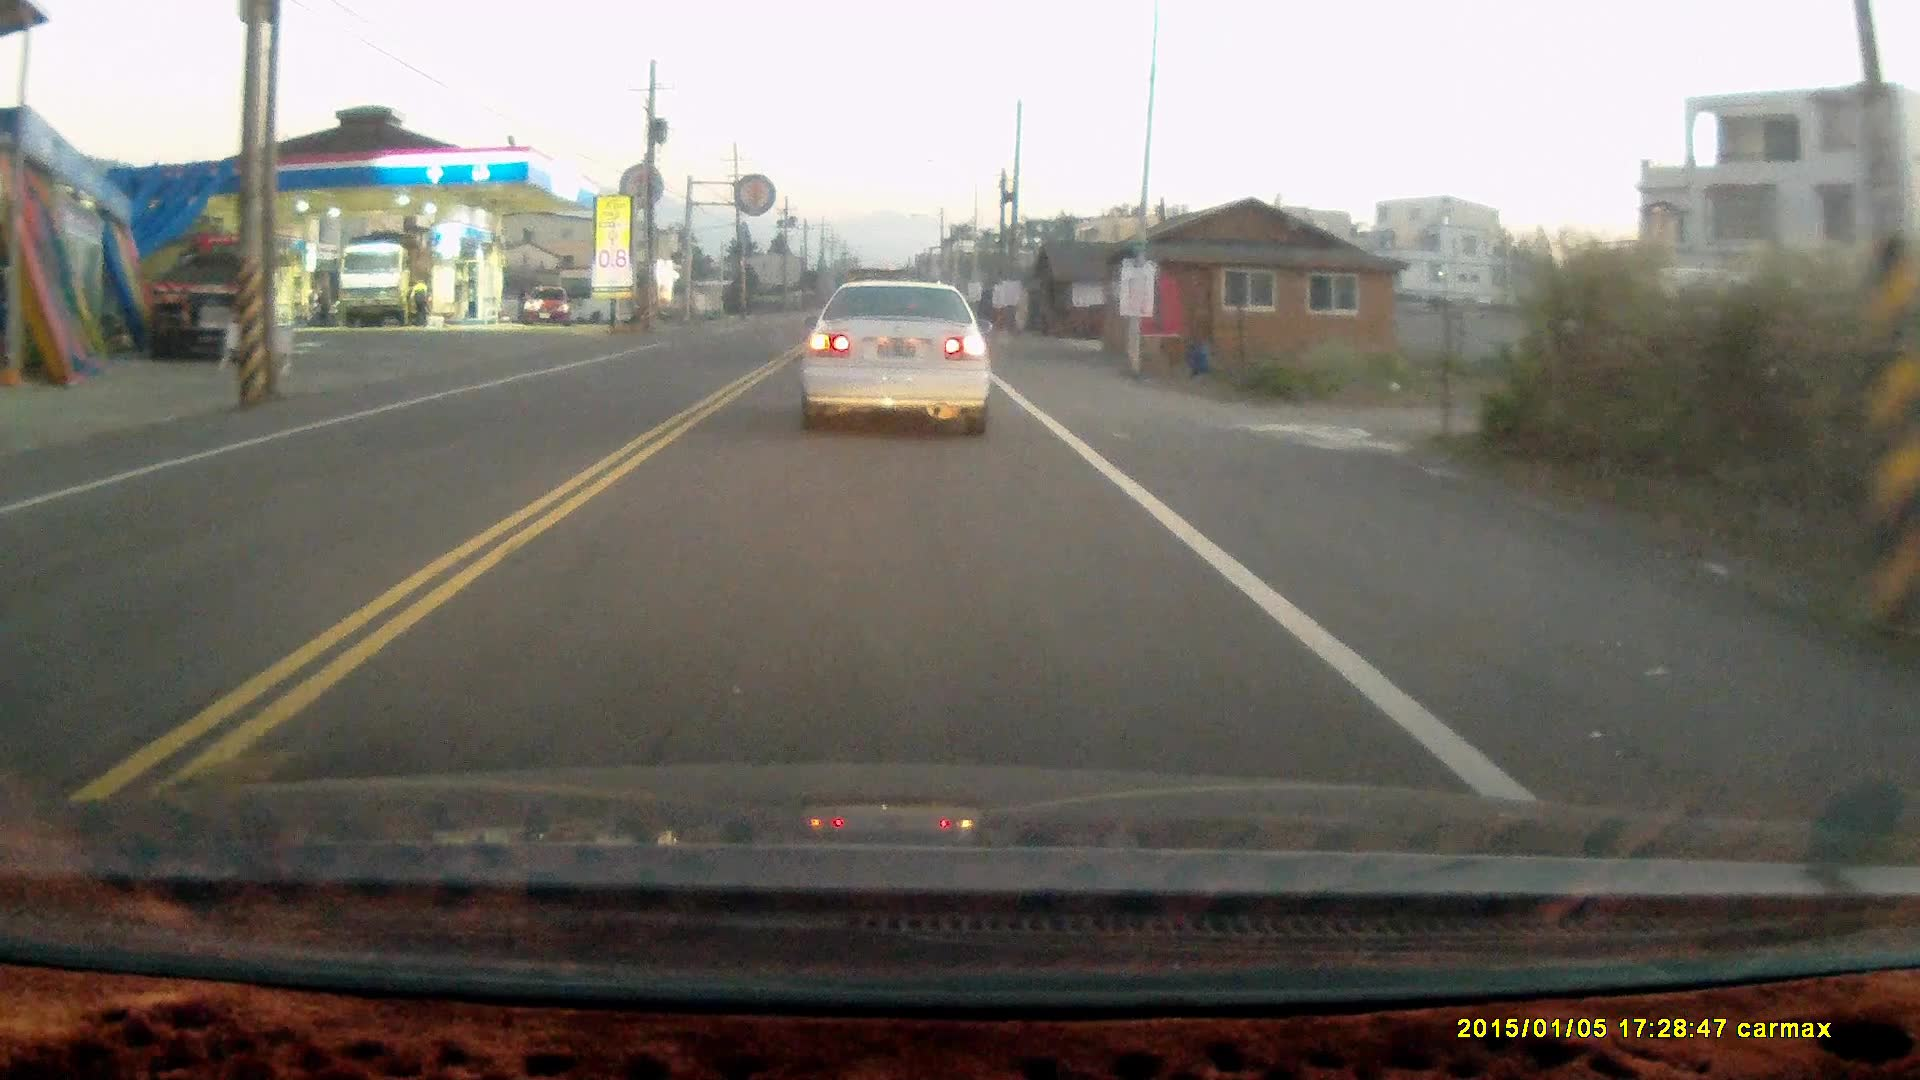pedestrian: (408, 274, 429, 324)
vehicle: (797, 282, 998, 444), (140, 234, 276, 368), (339, 244, 428, 334), (524, 287, 570, 326)
